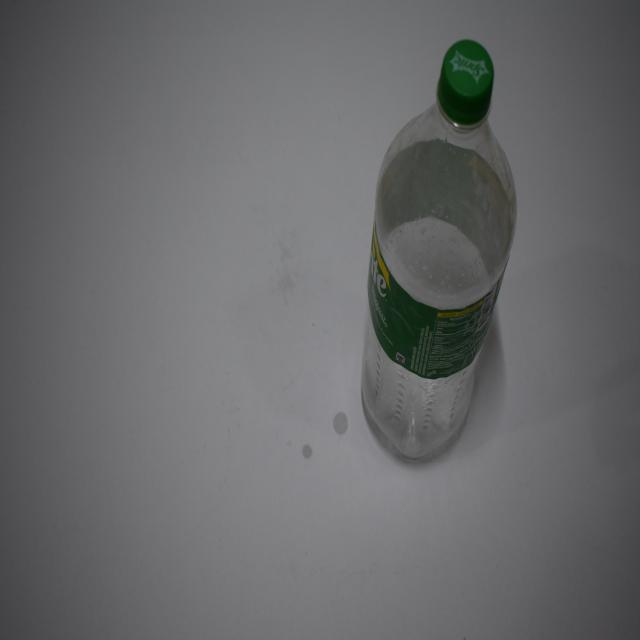bottle: (360, 22, 526, 480)
